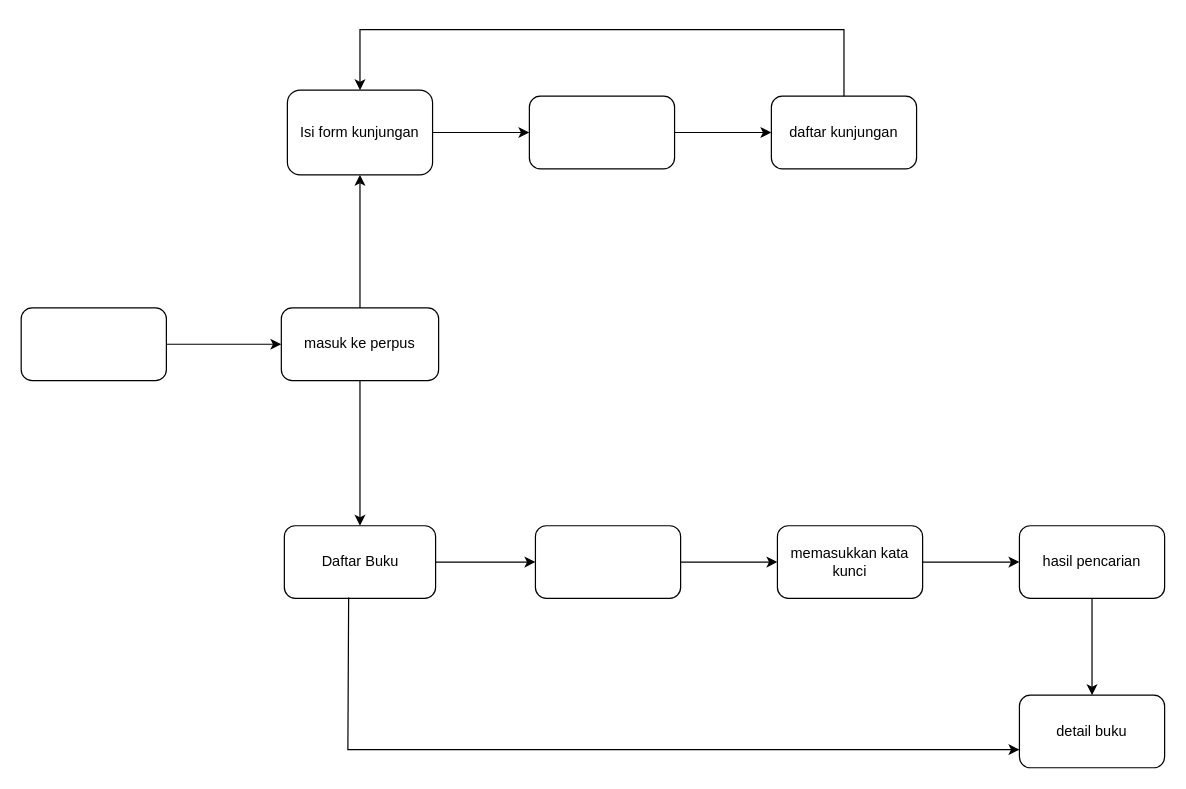
This 1186x789 diagram has some shape labels left out. The shapes that lost their labels are listed below. From the top down, each one's centre as x and y in pixels, then its label:
pixel 601 132: Kirim
pixel 93 344: user/pengunjung perpus
pixel 607 561: pencarian
